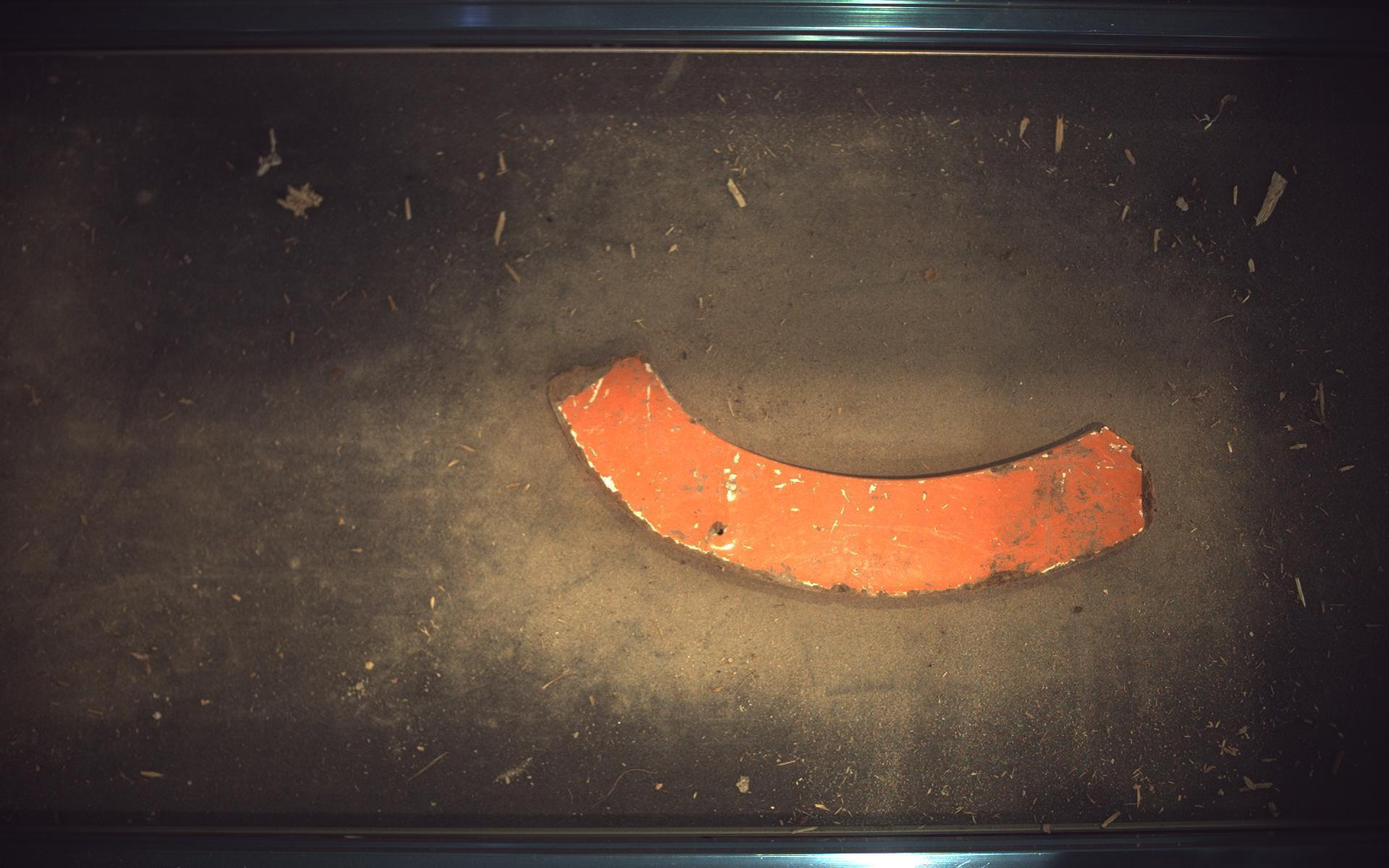wood: (549, 354, 1152, 597)
